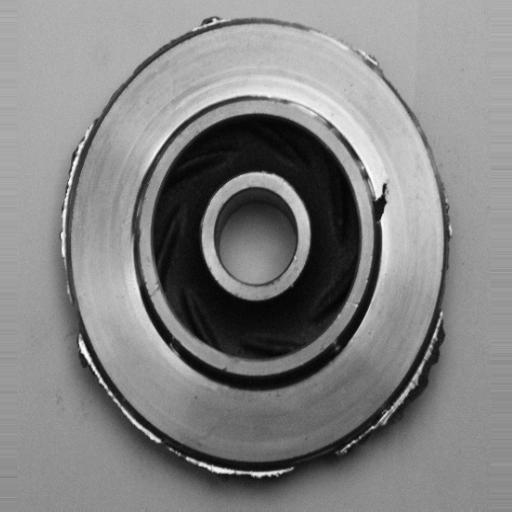casting_with_burr: (57, 11, 459, 485)
crack: (364, 174, 399, 234)
scratch: (267, 90, 336, 124)
